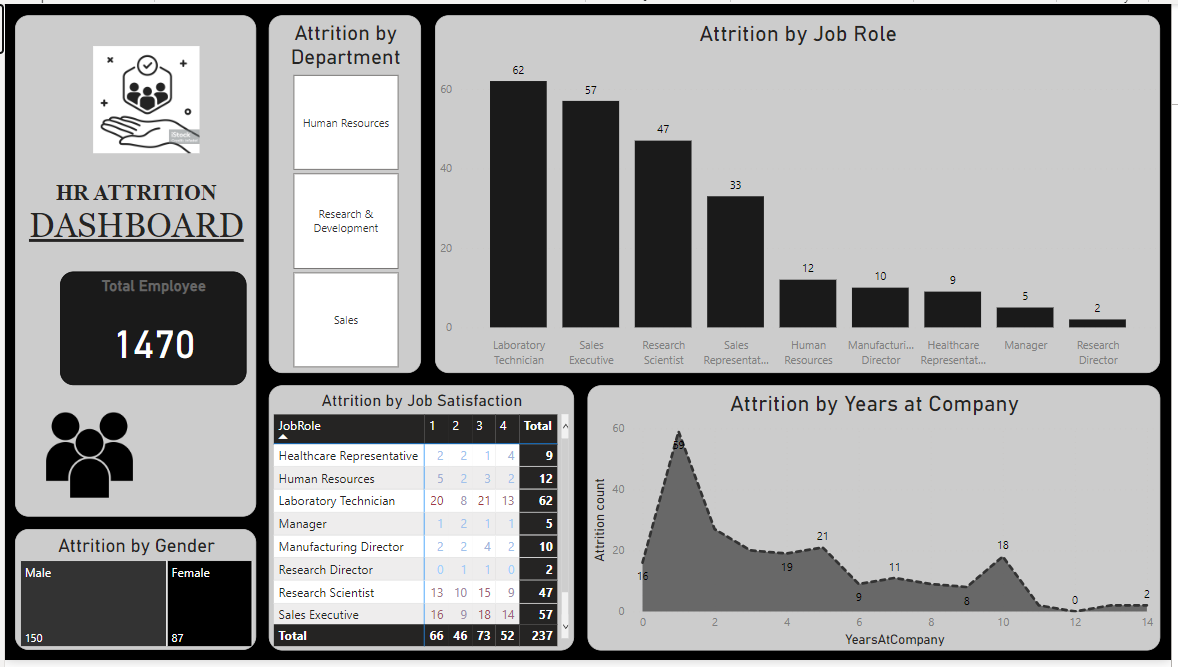

The page's visual inventory and layout, read from the dashboard file:
{"tool":"powerbi","page":{"name":"Page 2","canvas":[1280,720],"ordinal":1},"visuals":[{"type":"pivotTable","title":"Attrition by Job Satisfaction","fields":{"Rows":["HR_Analysis__.JobRole"],"Columns":["HR_Analysis__.JobSatisfaction"],"Values":["Sum(HR_Analysis__.Attrition_count)"]},"box":[289.5,418.5,334.8,290.9],"z":0},{"type":"clusteredColumnChart","title":" Attrition by Job Role","fields":{"Category":["HR_Analysis__.JobRole"],"Y":["Sum(HR_Analysis__.Attrition_count)"]},"box":[472,12.3,795.9,392.5],"z":1000},{"type":"areaChart","title":" Attrition by Years at Company","fields":{"Category":["HR_Analysis__.YearsAtCompany"],"Y":["Sum(HR_Analysis__.Attrition_count)"]},"box":[639.5,418.5,628.5,290.9],"z":2000},{"type":"textbox","box":[11,12.3,264.8,550.3],"z":3000},{"type":"treemap","title":"Attrition by Gender","fields":{"Group":["HR_Analysis__.Gender"],"Values":["Sum(HR_Analysis__.Attrition_count)"]},"box":[11,576.3,264.8,133.1],"z":4000},{"type":"image","box":[91.9,39.8,126.2,130.4],"z":5000},{"type":"card","title":"Total Employee","fields":{"Values":["Count(HR_Analysis__.EmpID)"]},"box":[60.4,293.7,204.5,124.9],"z":6000},{"type":"image","box":[0,436.8,185.4,115.4],"z":7000},{"type":"slicer","title":"Attrition by Department","fields":{"Values":["HR_Analysis__.Department"]},"box":[289.5,12.3,167.4,392.5],"z":8000}]}

Visuals, with their boxes in screenshot pixels (x1, y1, x2, y2), scaled from the page's 1280x720 canvas onto the 1178x667 screenshot:
"Attrition by Job Satisfaction" pivotTable: bbox=[266, 388, 575, 657]
" Attrition by Job Role" clusteredColumnChart: bbox=[434, 11, 1167, 375]
" Attrition by Years at Company" areaChart: bbox=[589, 388, 1167, 657]
textbox: bbox=[10, 11, 254, 521]
"Attrition by Gender" treemap: bbox=[10, 534, 254, 657]
image: bbox=[85, 37, 201, 158]
"Total Employee" card: bbox=[56, 272, 244, 388]
image: bbox=[0, 405, 171, 512]
"Attrition by Department" slicer: bbox=[266, 11, 420, 375]
